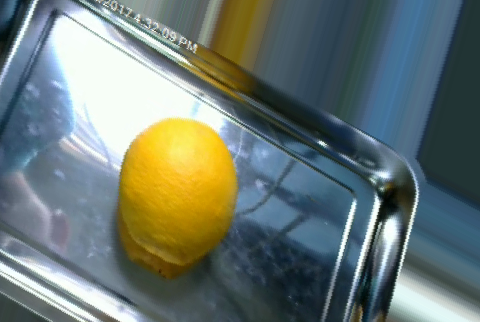Orange: (118, 117, 236, 265)
